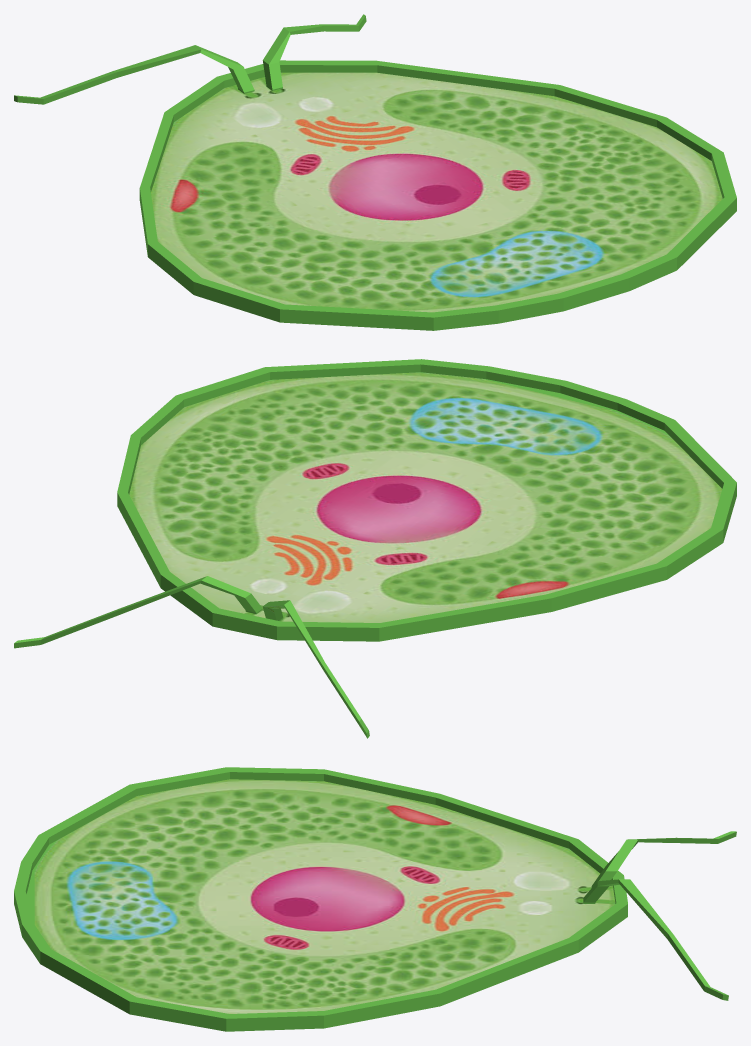
Rendered from Chlamydomonas.fbx.
3 views of the same model, one above another, from view 1: azimuth 30°, elevation 25°; view 2: azimuth 150°, elevation 25°; view 3: azimuth 270°, elevation 25° (orthographic). The views are drawn at different scales.
Visible parts, largest first — view 1: Chlamydomonas; view 2: Chlamydomonas; view 3: Chlamydomonas.
Part boxes in pixels (x1,y1,x2,y2): Chlamydomonas: (14,14,736,330); Chlamydomonas: (14,359,736,738); Chlamydomonas: (14,767,736,1031).
Bounding box in the file's own units: 60.74 × 6.67 × 73.75.
1 material, 1 textured.
